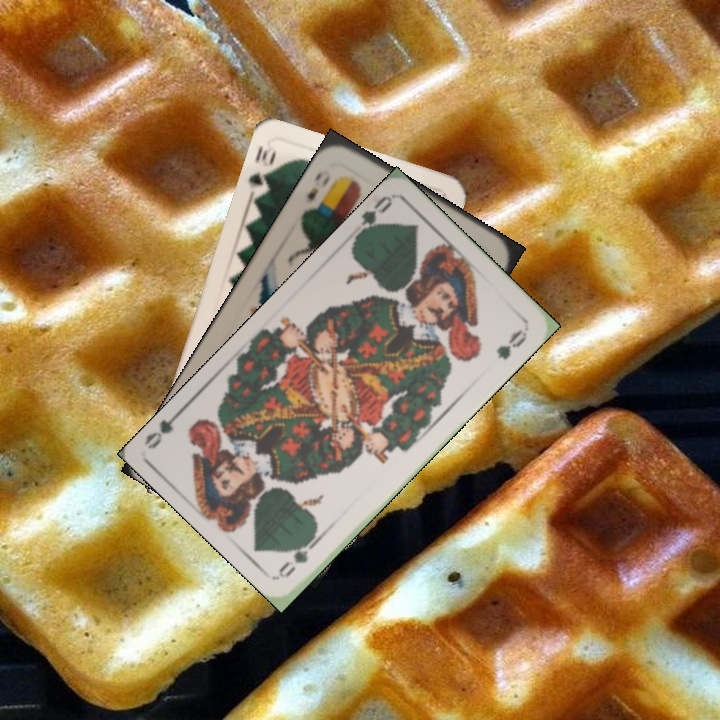EO: (302, 167, 334, 206)
G10: (244, 140, 279, 197)
GO: (275, 529, 324, 581), (349, 192, 395, 243)
